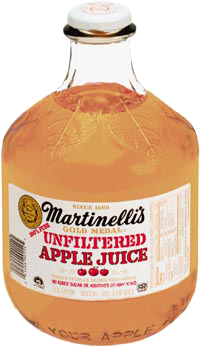grozi_53: (0, 2, 200, 346)
